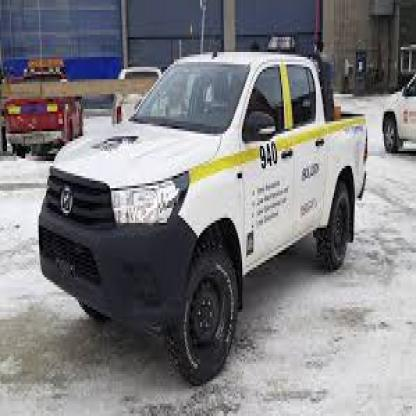light_vehicle: (35, 32, 374, 384)
